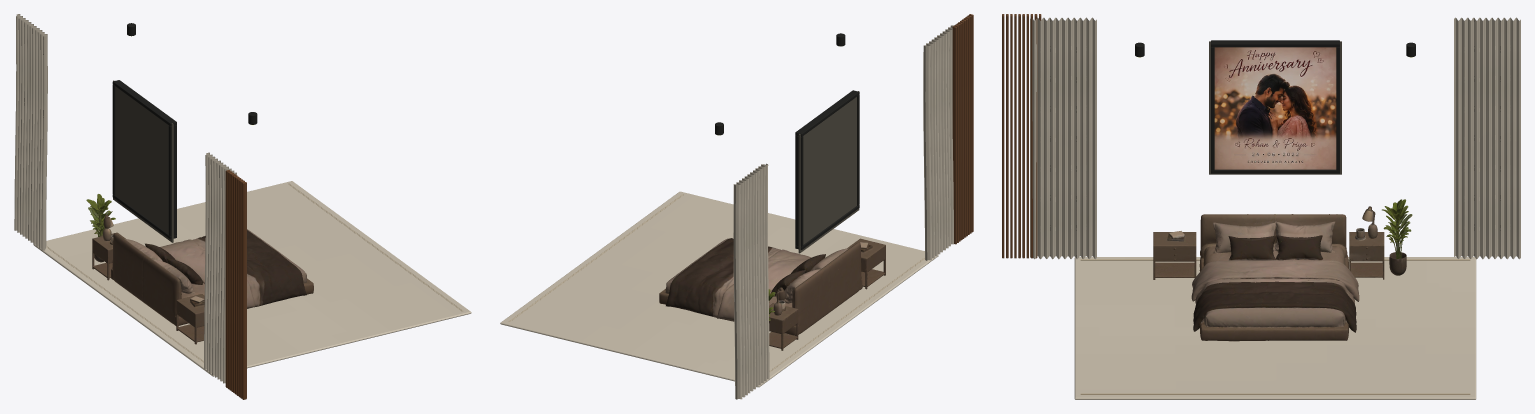
Rendered from room-5.glb.
3 views of the same model, side by side, from view 1: azimuth 30°, elevation 25°; view 2: azimuth 150°, elevation 25°; view 3: azimuth 270°, elevation 25° (orthographic). The views are drawn at different scales.
Parts seen in each view (by area): view 1: STATIC_ROOM_06_ANNIVERSARY_PBR_Woven_linen, STATIC_ROOM_06_ANNIVERSARY_MESHY_PBR_Couple_Room, FRAME_06_ANNIVERSARY_SHADOW, STATIC_ROOM_06_ANNIVERSARY_PBR_American_Walnut, STATIC_ROOM_06_ANNIVERSARY_PBR_Blackened_Steel, STATIC_ROOM_06_ANNIVERSARY_PBR_Woven_oatmeal; view 2: STATIC_ROOM_06_ANNIVERSARY_PBR_Woven_linen, STATIC_ROOM_06_ANNIVERSARY_MESHY_PBR_Couple_Room, FRAME_06_ANNIVERSARY_SHADOW, STATIC_ROOM_06_ANNIVERSARY_PBR_American_Walnut, STATIC_ROOM_06_ANNIVERSARY_PBR_Blackened_Steel, STATIC_ROOM_06_ANNIVERSARY_PBR_Woven_oatmeal; view 3: STATIC_ROOM_06_ANNIVERSARY_PBR_Woven_linen, STATIC_ROOM_06_ANNIVERSARY_MESHY_PBR_Couple_Room, ART_06_ANNIVERSARY, STATIC_ROOM_06_ANNIVERSARY_PBR_American_Walnut, STATIC_ROOM_06_ANNIVERSARY_PBR_Blackened_Steel, STATIC_ROOM_06_ANNIVERSARY_PBR_Woven_oatmeal, FRAME_06_ANNIVERSARY_SHADOW.
Boxes of the visible parts, x1,y1,x2,y2 form: STATIC_ROOM_06_ANNIVERSARY_PBR_Woven_linen: (14, 14, 471, 383); STATIC_ROOM_06_ANNIVERSARY_MESHY_PBR_Couple_Room: (86, 194, 313, 344); FRAME_06_ANNIVERSARY_SHADOW: (113, 80, 173, 242); STATIC_ROOM_06_ANNIVERSARY_PBR_American_Walnut: (225, 170, 246, 399); STATIC_ROOM_06_ANNIVERSARY_PBR_Blackened_Steel: (112, 23, 257, 239); STATIC_ROOM_06_ANNIVERSARY_PBR_Woven_oatmeal: (46, 184, 462, 362); STATIC_ROOM_06_ANNIVERSARY_PBR_Woven_linen: (500, 25, 953, 399); STATIC_ROOM_06_ANNIVERSARY_MESHY_PBR_Couple_Room: (659, 238, 885, 350); FRAME_06_ANNIVERSARY_SHADOW: (798, 91, 859, 253); STATIC_ROOM_06_ANNIVERSARY_PBR_American_Walnut: (952, 14, 973, 244); STATIC_ROOM_06_ANNIVERSARY_PBR_Blackened_Steel: (715, 33, 859, 249); STATIC_ROOM_06_ANNIVERSARY_PBR_Woven_oatmeal: (508, 194, 924, 371); STATIC_ROOM_06_ANNIVERSARY_PBR_Woven_linen: (1030, 17, 1520, 399); STATIC_ROOM_06_ANNIVERSARY_MESHY_PBR_Couple_Room: (1153, 199, 1412, 341); ART_06_ANNIVERSARY: (1214, 47, 1336, 169); STATIC_ROOM_06_ANNIVERSARY_PBR_American_Walnut: (1002, 14, 1041, 258); STATIC_ROOM_06_ANNIVERSARY_PBR_Blackened_Steel: (1135, 40, 1415, 173); STATIC_ROOM_06_ANNIVERSARY_PBR_Woven_oatmeal: (1080, 259, 1470, 394); FRAME_06_ANNIVERSARY_SHADOW: (1209, 41, 1341, 174).
Bounding box in the file's own units: 4.54 × 3.74 × 6.98.
8 materials, 5 textured.
